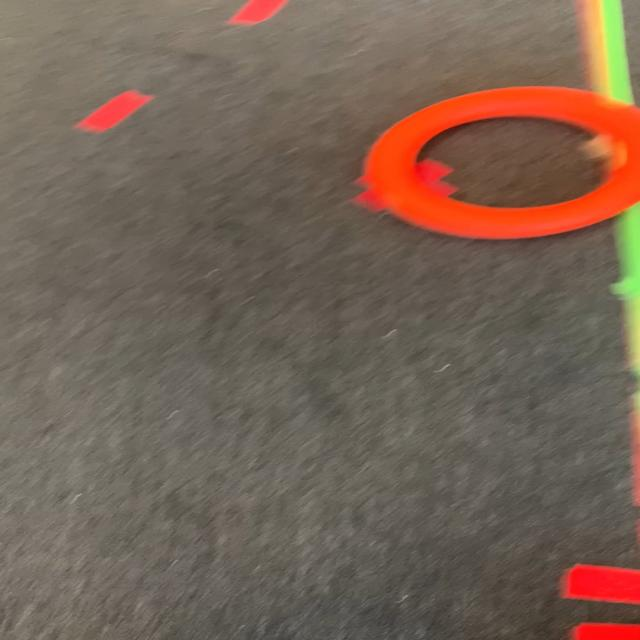notes: (361, 86, 640, 239)
